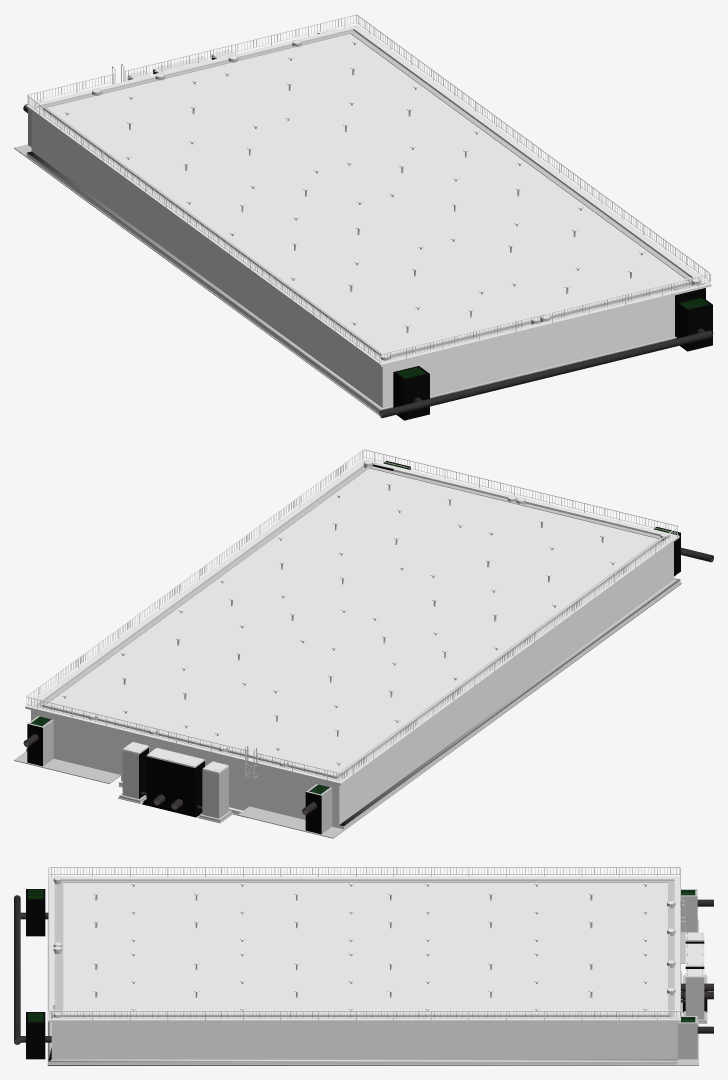
File: BD_清水池.fbx
The picture shows the model from 3 angles, top to bottom: view 1: azimuth 30°, elevation 25°; view 2: azimuth 150°, elevation 25°; view 3: azimuth 270°, elevation 25°; orthographic projection. The views are drawn at different scales.
Parts seen in each view (by area): view 1: BD_清水池, EQ_清水池_水管; view 2: BD_清水池, EQ_清水池_水管; view 3: BD_清水池, EQ_清水池_水管.
Boxes of the visible parts, box(x1,y1,x2,y2) form: BD_清水池: box(14, 14, 713, 420); EQ_清水池_水管: box(23, 33, 712, 418); BD_清水池: box(14, 449, 681, 838); EQ_清水池_水管: box(23, 547, 713, 814); BD_清水池: box(26, 867, 707, 1065); EQ_清水池_水管: box(14, 895, 713, 1044).
Bounding box in the file's own units: 322 × 66.82 × 627.
